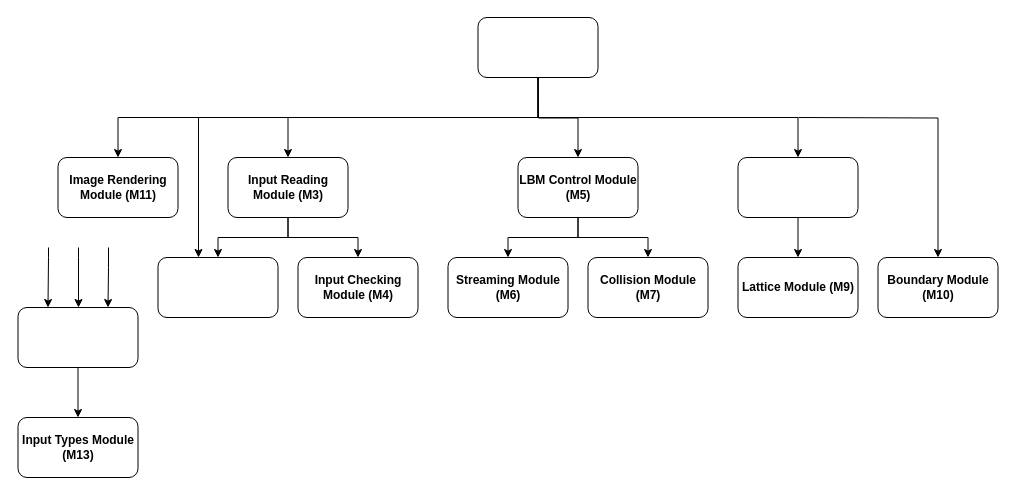
Some shapes in this 1015 by 495 pixel diagram are drawn without their labels. Each missing label, with the box of its shape:
Data Structure Module (M12): (17, 306, 138, 368)
Hardware Hiding Module (M1): (157, 256, 278, 318)
Problem Module (M8): (737, 156, 858, 218)
System Control Module (M2): (477, 16, 598, 78)
